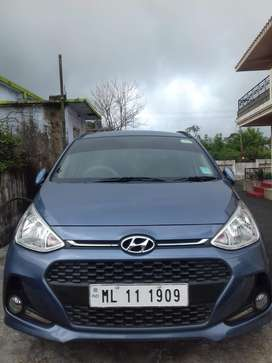ML111909: (88, 282, 188, 306)
